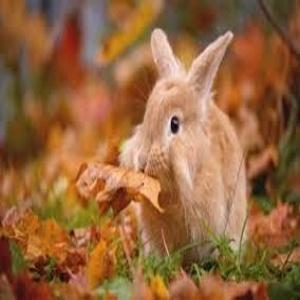rabbit: (100, 29, 246, 252)
